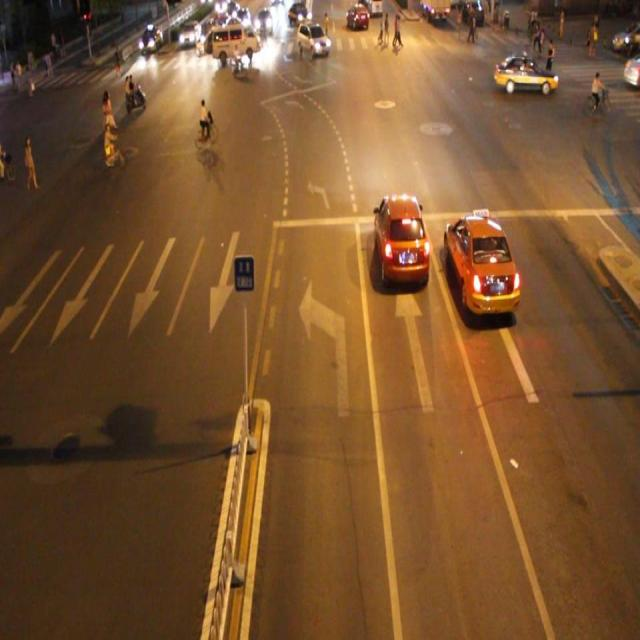car: (444, 212, 518, 314), (373, 192, 430, 288), (494, 52, 556, 99)
truck: (211, 23, 260, 62)
